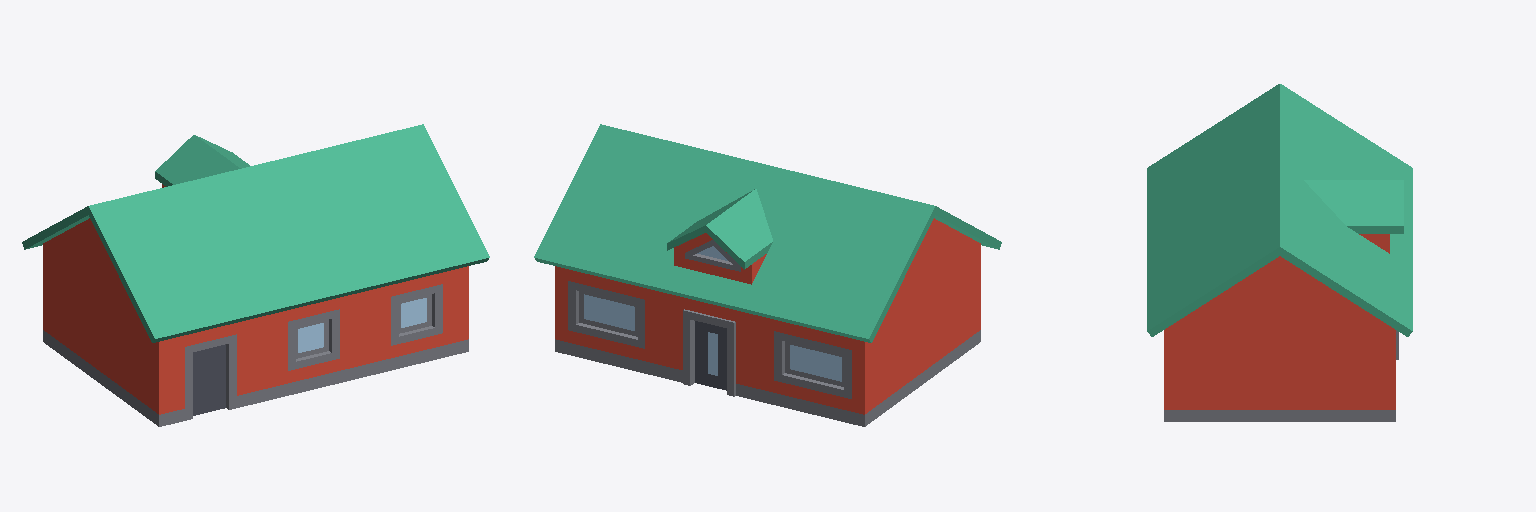
The model's file is city_house_d.obj.
3 views of the same model, side by side, from view 1: azimuth 30°, elevation 25°; view 2: azimuth 150°, elevation 25°; view 3: azimuth 270°, elevation 25° (orthographic).
Visible parts, largest first — view 1: mergedBlocks; view 2: mergedBlocks; view 3: mergedBlocks.
Part boxes in pixels (x1,y1,x2,y2): mergedBlocks: (22,124,489,426); mergedBlocks: (534,124,1001,426); mergedBlocks: (1147,84,1412,421).
Size of the model in its own units: 0.8529 by 0.4425 by 0.5862.